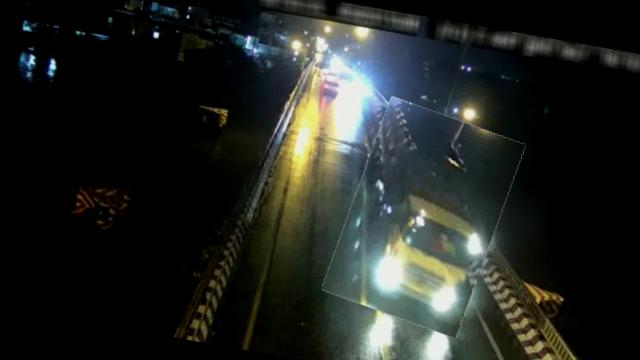Truck: (326, 96, 520, 337)
